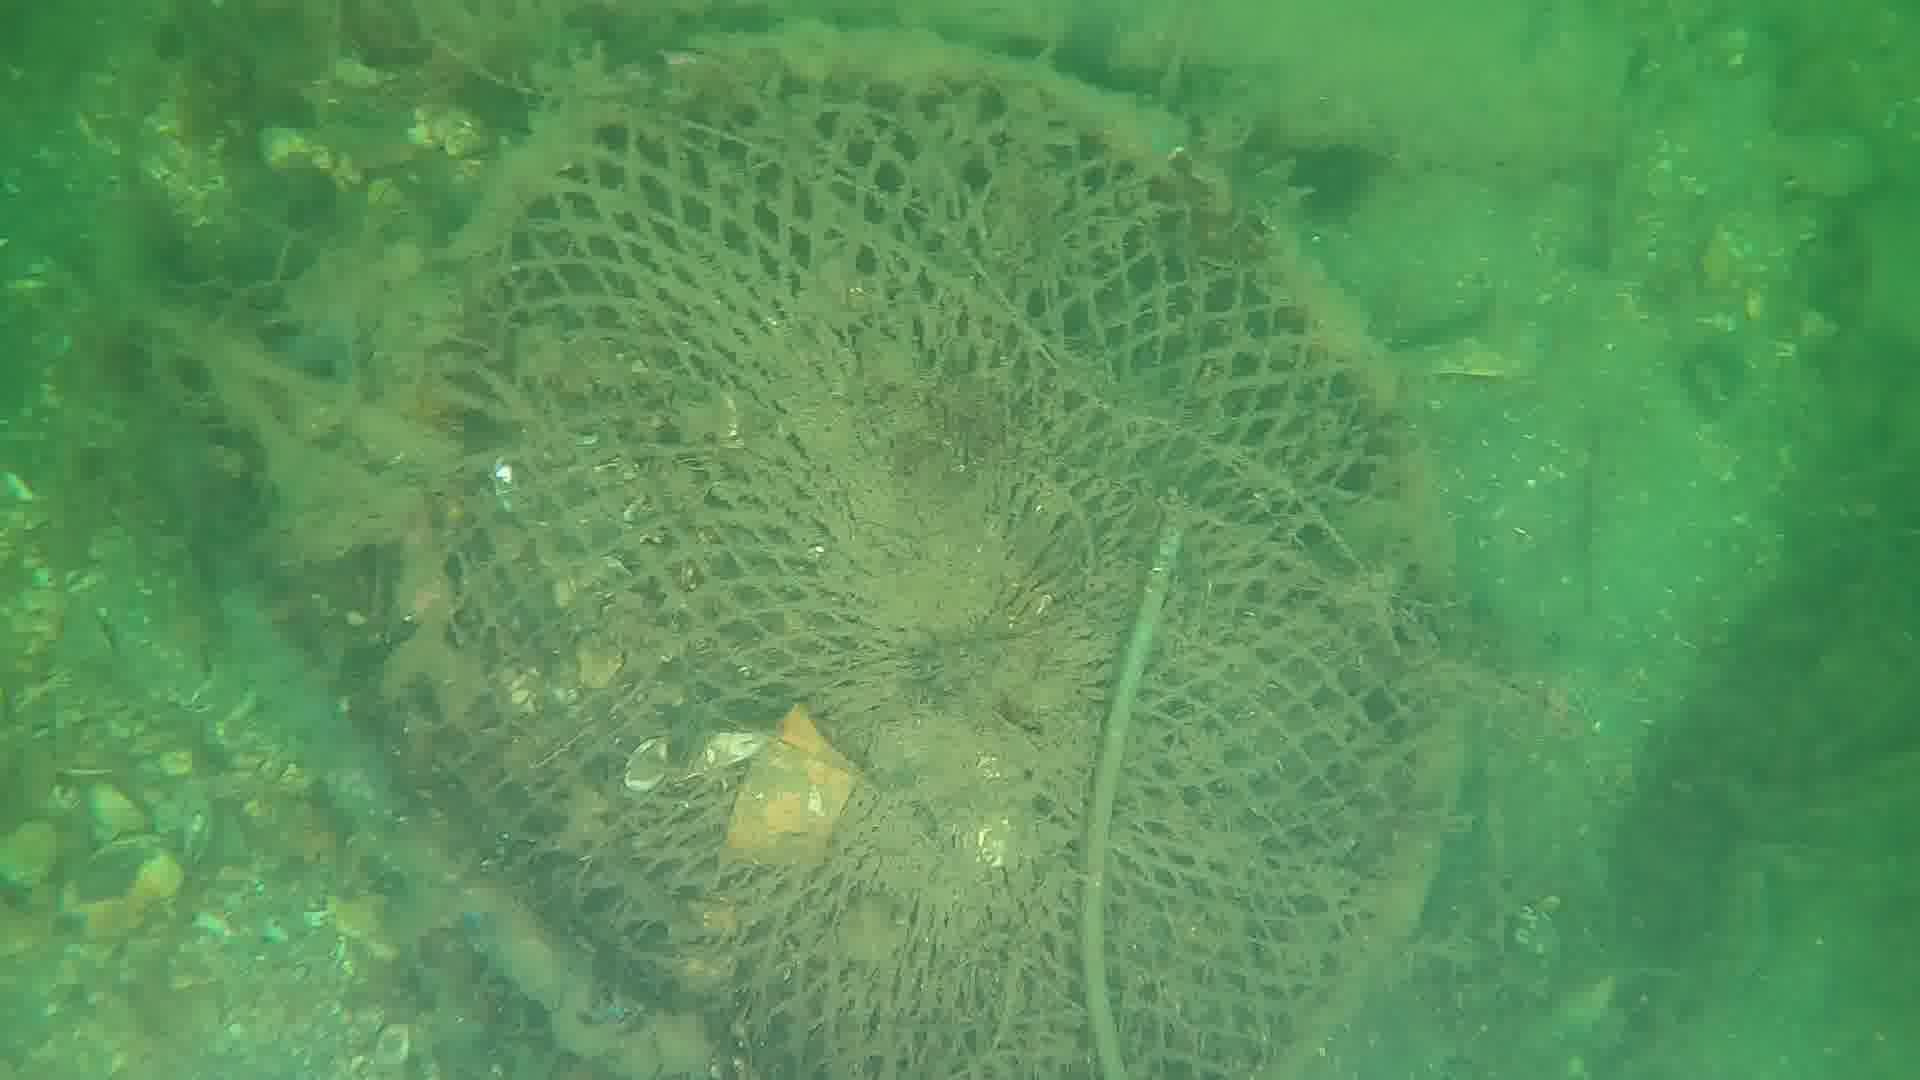circular fish trap: (382, 26, 1458, 1080)
